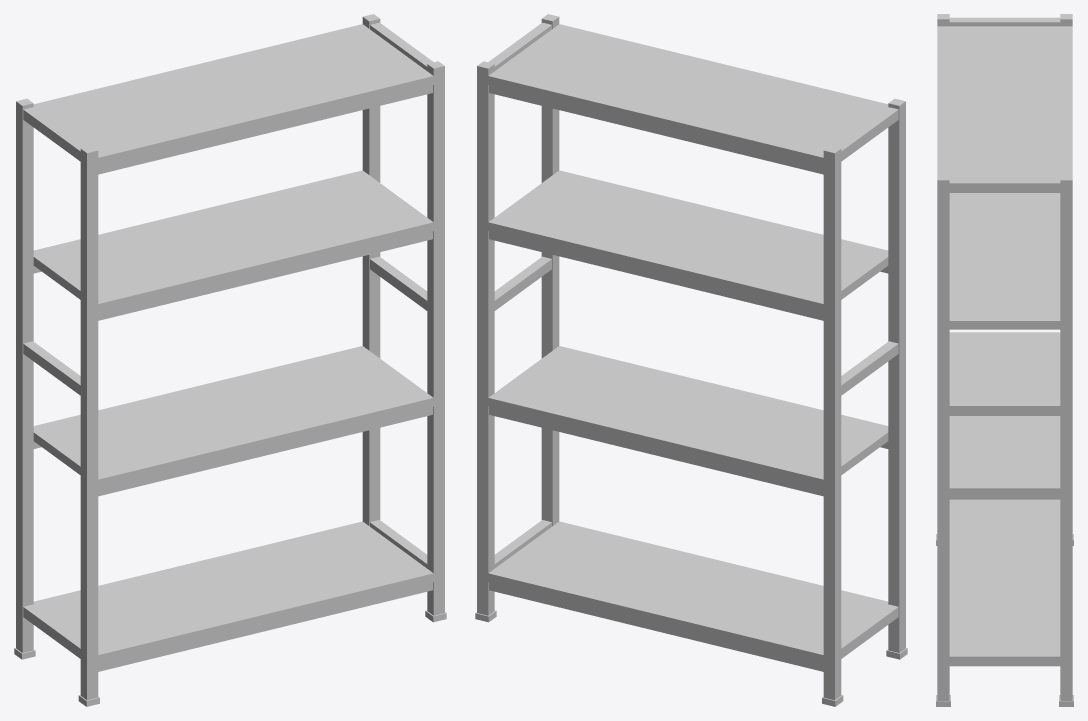
Rendered from Garage_Shelf.fbx.
3 views of the same model, side by side, from view 1: azimuth 30°, elevation 25°; view 2: azimuth 150°, elevation 25°; view 3: azimuth 270°, elevation 25° (orthographic). The views are drawn at different scales.
Parts seen in each view (by area): view 1: Garage_Shelf; view 2: Garage_Shelf; view 3: Garage_Shelf.
Boxes of the visible parts, x1=… form: Garage_Shelf: x1=14, y1=14, x2=446, y2=706; Garage_Shelf: x1=475, y1=14, x2=907, y2=706; Garage_Shelf: x1=936, y1=14, x2=1073, y2=706.
Bounding box in the file's own units: 129 × 189 × 44.85.
